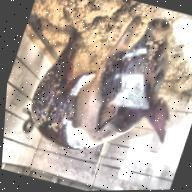boar: (11, 0, 192, 175)
